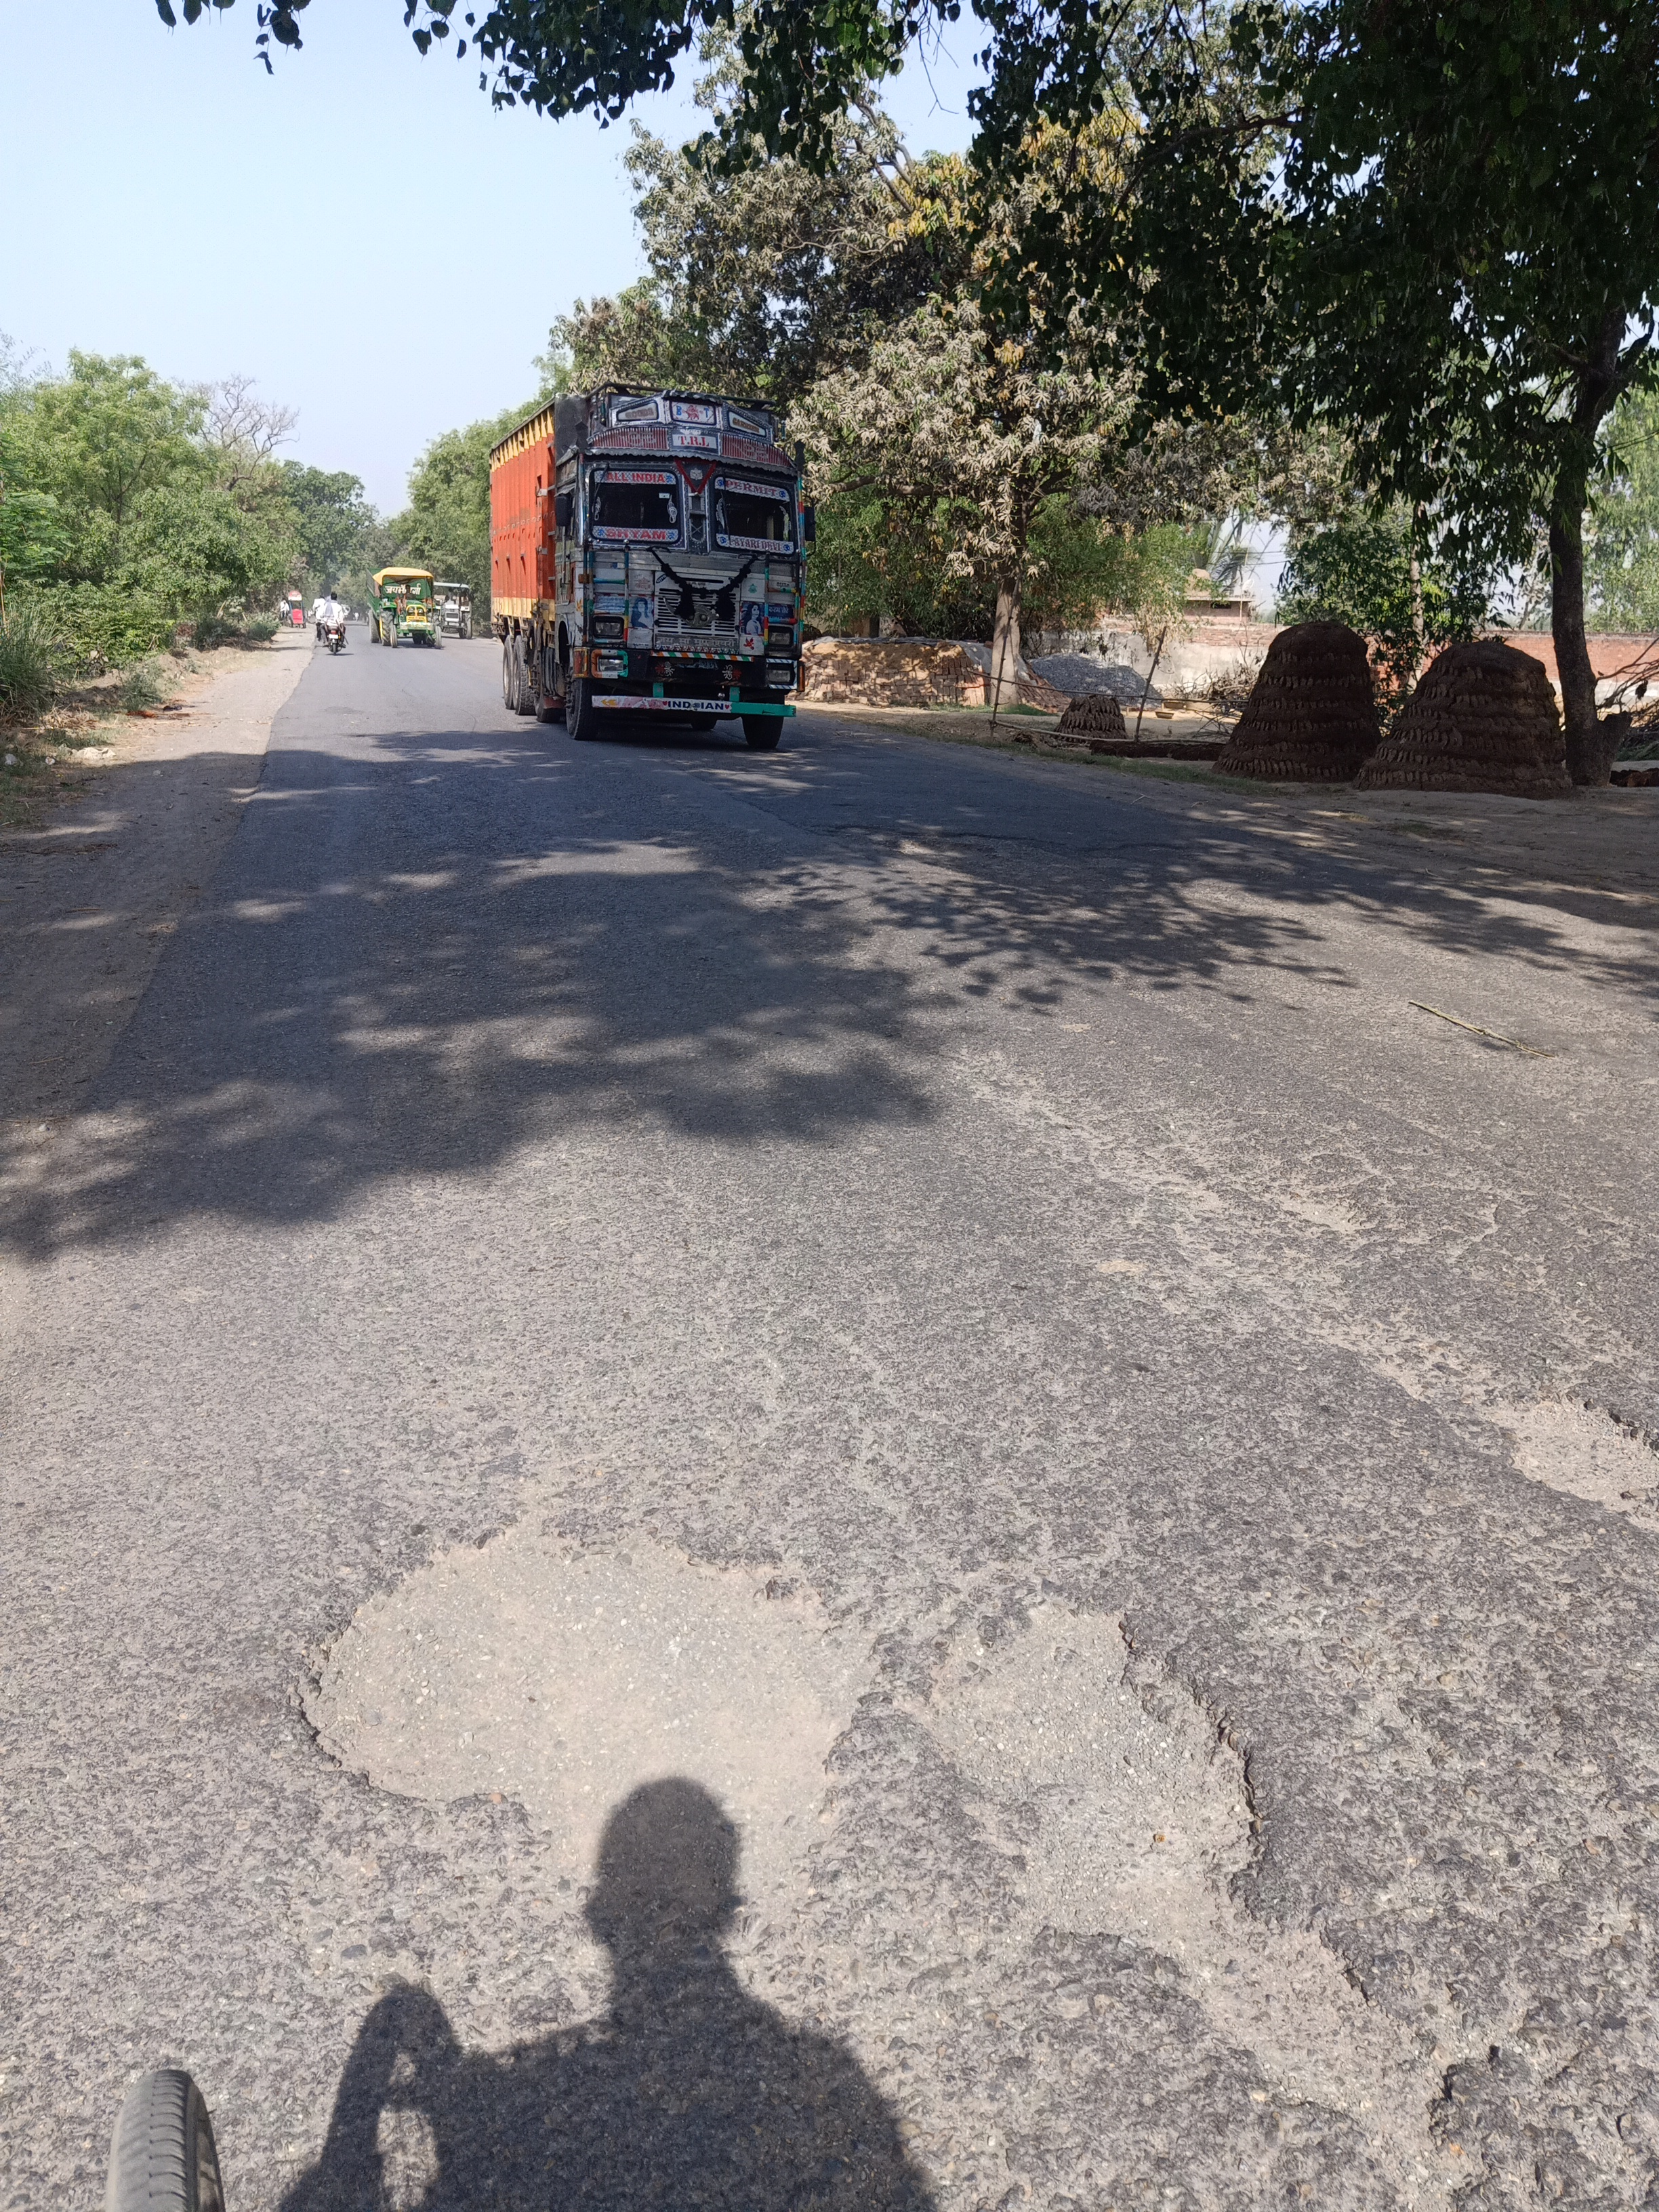tractor: (364, 566, 443, 650), (432, 580, 472, 639)
truck: (484, 378, 817, 752)
